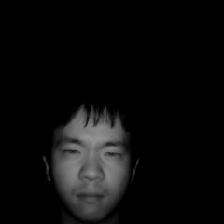normal: (45, 90, 148, 224)
